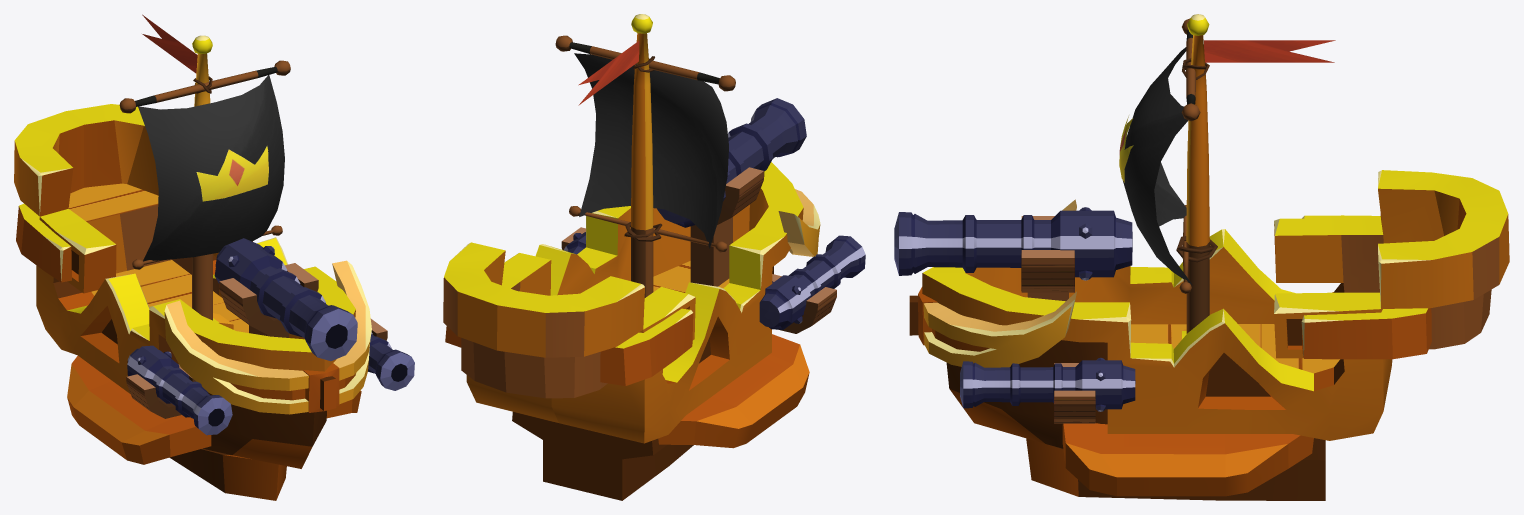
File: Sea_VIP_L_GoldShip_C.fbx
3 views of the same model, side by side, from view 1: azimuth 30°, elevation 25°; view 2: azimuth 150°, elevation 25°; view 3: azimuth 270°, elevation 25° (orthographic). The views are drawn at different scales.
Visible parts, largest first — view 1: Color_02, Color_Cloth_01, Color_08, Color_04, Color_07, Color_01, Color_03, Color_05, Color_06; view 2: Color_02, Color_Cloth_01, Color_04, Color_03, Color_08, Color_05, Color_01, Color_07, Color_09; view 3: Color_02, Color_04, Color_01, Color_08, Color_Cloth_01, Color_03, Color_06, Color_07, Color_09.
Part boxes in pixels (x1,y1,x2,y2): Color_02: (14, 104, 355, 500); Color_Cloth_01: (138, 14, 284, 261); Color_08: (126, 260, 387, 418); Color_04: (16, 203, 361, 464); Color_07: (68, 183, 248, 332); Color_01: (214, 238, 357, 361); Color_03: (119, 35, 290, 329); Color_05: (127, 345, 232, 435); Color_06: (368, 332, 414, 390); Color_02: (443, 162, 803, 500); Color_Cloth_01: (574, 41, 728, 248); Color_04: (445, 308, 809, 448); Color_03: (555, 14, 735, 297); Color_08: (561, 167, 836, 333); Color_05: (759, 235, 865, 329); Color_01: (657, 98, 806, 227); Color_07: (653, 261, 729, 292); Color_09: (624, 56, 662, 241); Color_02: (922, 170, 1509, 500); Color_04: (1062, 215, 1431, 496); Color_01: (894, 207, 1132, 280); Color_08: (909, 199, 1095, 423); Color_Cloth_01: (1119, 40, 1335, 284); Color_03: (1179, 14, 1209, 339); Color_06: (960, 357, 1135, 411); Color_07: (1130, 324, 1339, 373); Color_09: (1176, 58, 1217, 262).
Bounding box in the file's own units: 23.82 × 38.54 × 46.15.
Materials: 2 (2 with a texture image).
